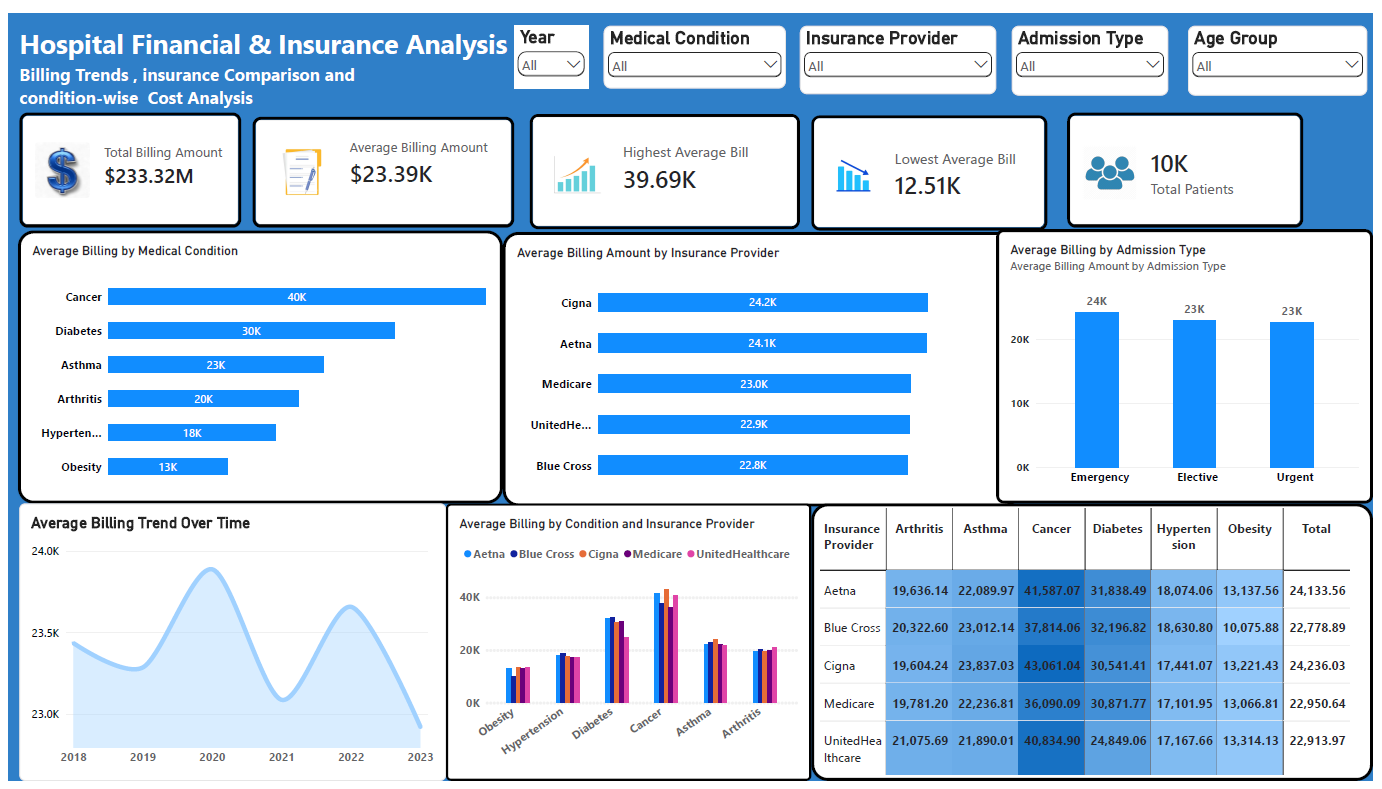

Layout of this report page (visuals, bound fields, positions):
{"tool":"powerbi","page":{"name":"Financial and Insurance Analysis ","canvas":[1920,1080],"ordinal":2},"visuals":[{"type":"cardVisual","fields":{"Data":["Healthcare_Data_v1__1.Total Billing Amount"]},"box":[16,140,312,162],"z":0},{"type":"cardVisual","fields":{"Data":["Healthcare_Data_v1__1.Average Billing Amount"]},"box":[344,146,368,156],"z":1000},{"type":"cardVisual","fields":{"Data":["Healthcare_Data_v1__1.Highest Condition Average Billing"]},"box":[734,142,380,162],"z":2000},{"type":"cardVisual","fields":{"Data":["Healthcare_Data_v1__1.Lowest Condition Average Billing"]},"box":[1130,144,332,162],"z":3000},{"type":"cardVisual","fields":{"Data":["Healthcare_Data_v1__1.Patients with Billing Data"]},"box":[1490,140,332,162],"z":4000},{"type":"clusteredBarChart","title":"Average Billing by Medical Condition","fields":{"Category":["Healthcare_Data_v1__1.Medical Condition"],"Y":["Healthcare_Data_v1__1.Average Billing Amount"]},"box":[14,306,682,384],"z":5000},{"type":"clusteredBarChart","fields":{"Category":["Healthcare_Data_v1__1.Insurance Provider"],"Y":["Healthcare_Data_v1__1.Average Billing Amount"]},"box":[696,308,728,386],"z":6000},{"type":"clusteredColumnChart","title":"Average Billing by Condition and Insurance Provider","fields":{"Category":["Healthcare_Data_v1__1.Medical Condition"],"Series":["Healthcare_Data_v1__1.Insurance Provider"],"Y":["Healthcare_Data_v1__1.Average Billing Amount"]},"box":[616,690,514,390],"z":7000},{"type":"lineChart","title":"Average Billing Trend Over Time","fields":{"Category":["DateTable.Year"],"Y":["Healthcare_Data_v1__1.Average Billing Amount"]},"box":[16,690,600,390],"z":8000},{"type":"clusteredColumnChart","title":"Average Billing by Admission Type","fields":{"Category":["Healthcare_Data_v1__1.Admission Type"],"Y":["Healthcare_Data_v1__1.Average Billing Amount"]},"box":[1390,304,530,386],"z":9000},{"type":"pivotTable","fields":{"Columns":["Healthcare_Data_v1__1.Medical Condition"],"Rows":["Healthcare_Data_v1__1.Insurance Provider"],"Values":["Healthcare_Data_v1__1.Average Billing Amount"]},"box":[1130,690,790,390],"z":10000},{"type":"textbox","box":[16,18,696,52],"z":11000},{"type":"textbox","box":[16,70,572,140],"z":12000},{"type":"slicer","fields":{"Values":["Healthcare_Data_v1__1.Year"]},"box":[712,18,104,88],"z":13000},{"type":"slicer","fields":{"Values":["Healthcare_Data_v1__1.Medical Condition"]},"box":[838,18,256,88],"z":14000},{"type":"slicer","fields":{"Values":["Healthcare_Data_v1__1.Insurance Provider"]},"box":[1114,18,276,96],"z":15000},{"type":"slicer","fields":{"Values":["Healthcare_Data_v1__1.Admission Type"]},"box":[1412,18,220,98],"z":16000},{"type":"slicer","fields":{"Values":["Healthcare_Data_v1__1.Age Group"]},"box":[1660,18,252,98],"z":17000}]}

Visuals, with their boxes in screenshot pixels (x1, y1, x2, y2), scaled from the page's 1920x1080 canvas onto the 1382x789 screenshot:
cardVisual - Healthcare_Data_v1__1.Total Billing Amount: 12,102,236,221
cardVisual - Healthcare_Data_v1__1.Average Billing Amount: 248,107,512,221
cardVisual - Healthcare_Data_v1__1.Highest Condition Average Billing: 528,104,802,222
cardVisual - Healthcare_Data_v1__1.Lowest Condition Average Billing: 813,105,1052,224
cardVisual - Healthcare_Data_v1__1.Patients with Billing Data: 1072,102,1311,221
"Average Billing by Medical Condition" clusteredBarChart: 10,224,501,504
clusteredBarChart - Healthcare_Data_v1__1.Insurance Provider x Healthcare_Data_v1__1.Average Billing Amount: 501,225,1025,507
"Average Billing by Condition and Insurance Provider" clusteredColumnChart: 443,504,813,788
"Average Billing Trend Over Time" lineChart: 12,504,443,788
"Average Billing by Admission Type" clusteredColumnChart: 1001,222,1381,504
pivotTable - Healthcare_Data_v1__1.Medical Condition x Healthcare_Data_v1__1.Insurance Provider: 813,504,1381,788
textbox: 12,13,512,51
textbox: 12,51,423,153
slicer - Healthcare_Data_v1__1.Year: 512,13,587,77
slicer - Healthcare_Data_v1__1.Medical Condition: 603,13,787,77
slicer - Healthcare_Data_v1__1.Insurance Provider: 802,13,1001,83
slicer - Healthcare_Data_v1__1.Admission Type: 1016,13,1175,85
slicer - Healthcare_Data_v1__1.Age Group: 1195,13,1376,85
